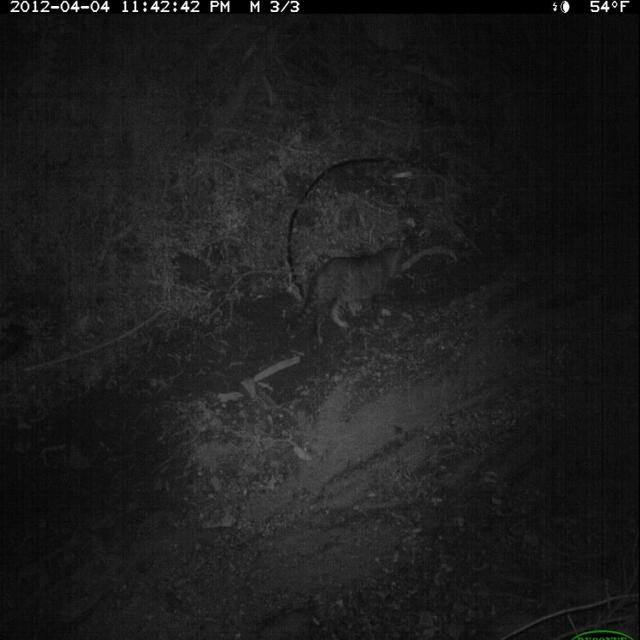cat: (287, 243, 426, 342)
